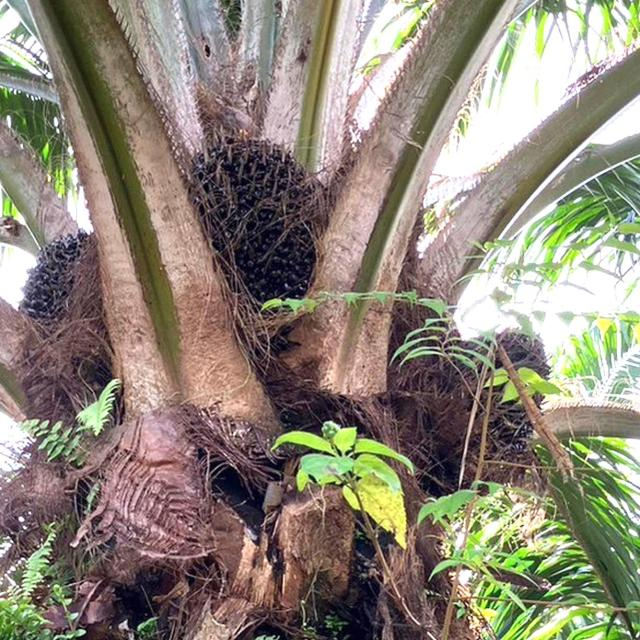unripe: (188, 138, 317, 322)
